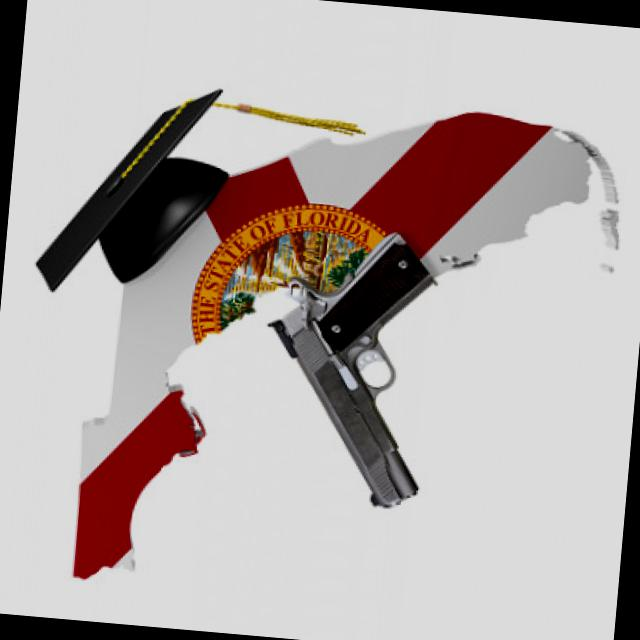handgun: (245, 203, 452, 508)
